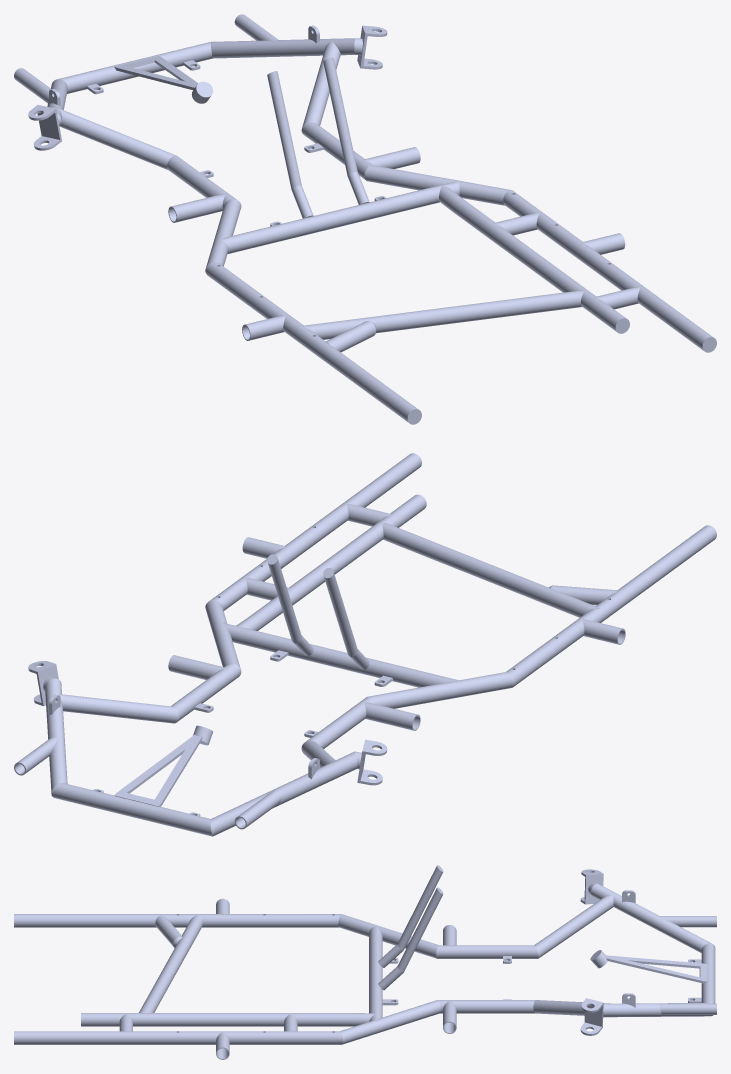
Rendered from chassis.obj.
The picture shows the model from 3 angles, top to bottom: view 1: azimuth 30°, elevation 25°; view 2: azimuth 150°, elevation 25°; view 3: azimuth 270°, elevation 25°; orthographic projection. The views are drawn at different scales.
Visible parts, largest first — view 1: mesh21, mesh118, mesh3, mesh60, mesh16, mesh34, mesh15, mesh133, mesh87, mesh169, mesh173, mesh31 (+7 smaller); view 2: mesh118, mesh21, mesh3, mesh60, mesh16, mesh133, mesh77, mesh92, mesh31, mesh34, mesh159, mesh22 (+10 smaller); view 3: mesh3, mesh118, mesh16, mesh92, mesh21, mesh15, mesh78, mesh87, mesh60, mesh22, mesh77, mesh34 (+9 smaller).
Part boxes in pixels (left/top/right/bottom): mesh21: left=302, top=290, right=583, bottom=339; mesh118: left=205, top=262, right=418, bottom=422; mesh3: left=503, top=190, right=713, bottom=350; mesh60: left=221, top=181, right=459, bottom=254; mesh16: left=451, top=198, right=626, bottom=331; mesh34: left=210, top=38, right=355, bottom=58; mesh15: left=364, top=165, right=510, bottom=205; mesh133: left=58, top=42, right=212, bottom=93; mesh87: left=58, top=108, right=175, bottom=169; mesh169: left=267, top=71, right=301, bottom=189; mesh173: left=323, top=57, right=357, bottom=175; mesh31: left=302, top=41, right=340, bottom=127; mesh118: left=506, top=525, right=716, bottom=686; mesh21: left=382, top=522, right=596, bottom=617; mesh3: left=210, top=453, right=421, bottom=610; mesh60: left=221, top=623, right=459, bottom=687; mesh16: left=251, top=494, right=426, bottom=628; mesh133: left=51, top=783, right=212, bottom=836; mesh77: left=369, top=672, right=514, bottom=708; mesh92: left=210, top=751, right=357, bottom=836; mesh31: left=58, top=694, right=178, bottom=723; mesh34: left=45, top=678, right=67, bottom=793; mesh159: left=114, top=734, right=201, bottom=806; mesh22: left=171, top=663, right=241, bottom=721; mesh3: left=14, top=1031, right=342, bottom=1044; mesh118: left=14, top=914, right=340, bottom=927; mesh16: left=81, top=1013, right=348, bottom=1026; mesh92: left=591, top=884, right=711, bottom=952; mesh21: left=139, top=914, right=203, bottom=1013; mesh15: left=340, top=1000, right=440, bottom=1044; mesh78: left=436, top=945, right=538, bottom=958; mesh87: left=534, top=894, right=613, bottom=957; mesh60: left=369, top=926, right=382, bottom=1021; mesh22: left=438, top=1000, right=535, bottom=1013; mesh77: left=338, top=914, right=438, bottom=958; mesh34: left=603, top=1003, right=713, bottom=1017.
Size of the model in its own units: 0.7761 by 0.2646 by 1.55.
